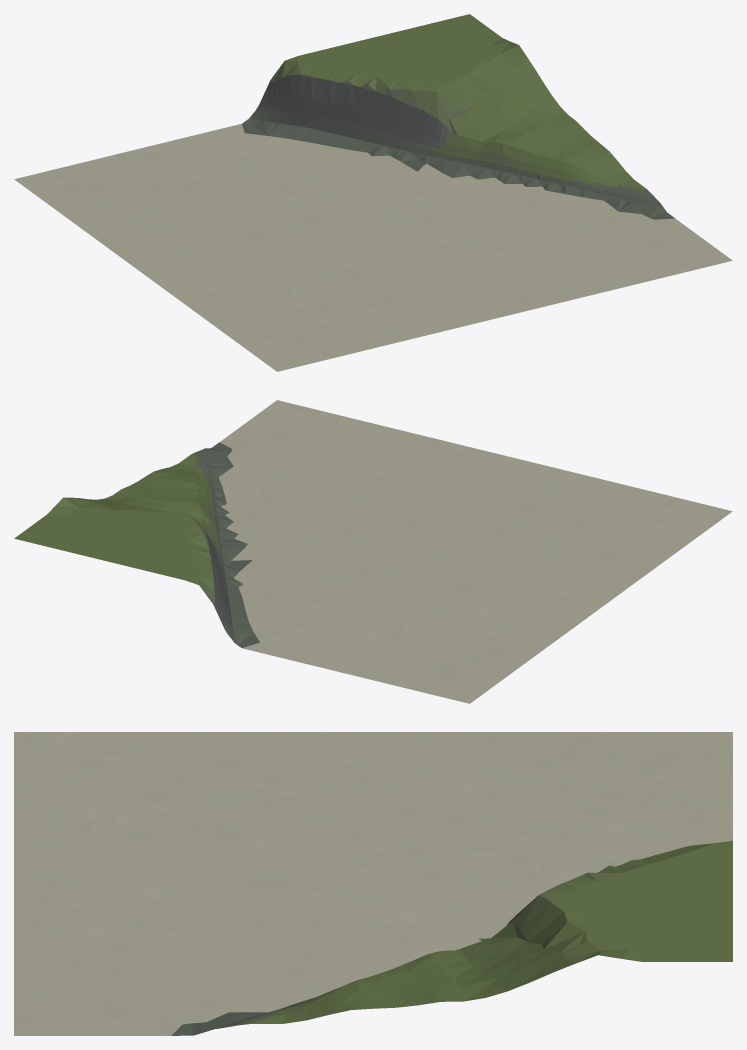
Rendered from Ground_-5_-5.glb.
3 views of the same model, one above another, from view 1: azimuth 30°, elevation 25°; view 2: azimuth 150°, elevation 25°; view 3: azimuth 270°, elevation 25° (orthographic). The views are drawn at different scales.
Parts seen in each view (by area): view 1: Ground_-5_-5; view 2: Ground_-5_-5; view 3: Ground_-5_-5.
Part boxes in pixels (x1,y1,x2,y2): Ground_-5_-5: [14, 14, 732, 371]; Ground_-5_-5: [14, 400, 732, 703]; Ground_-5_-5: [14, 732, 732, 1035].
Size of the model in its own units: 768 by 95.17 by 768.
